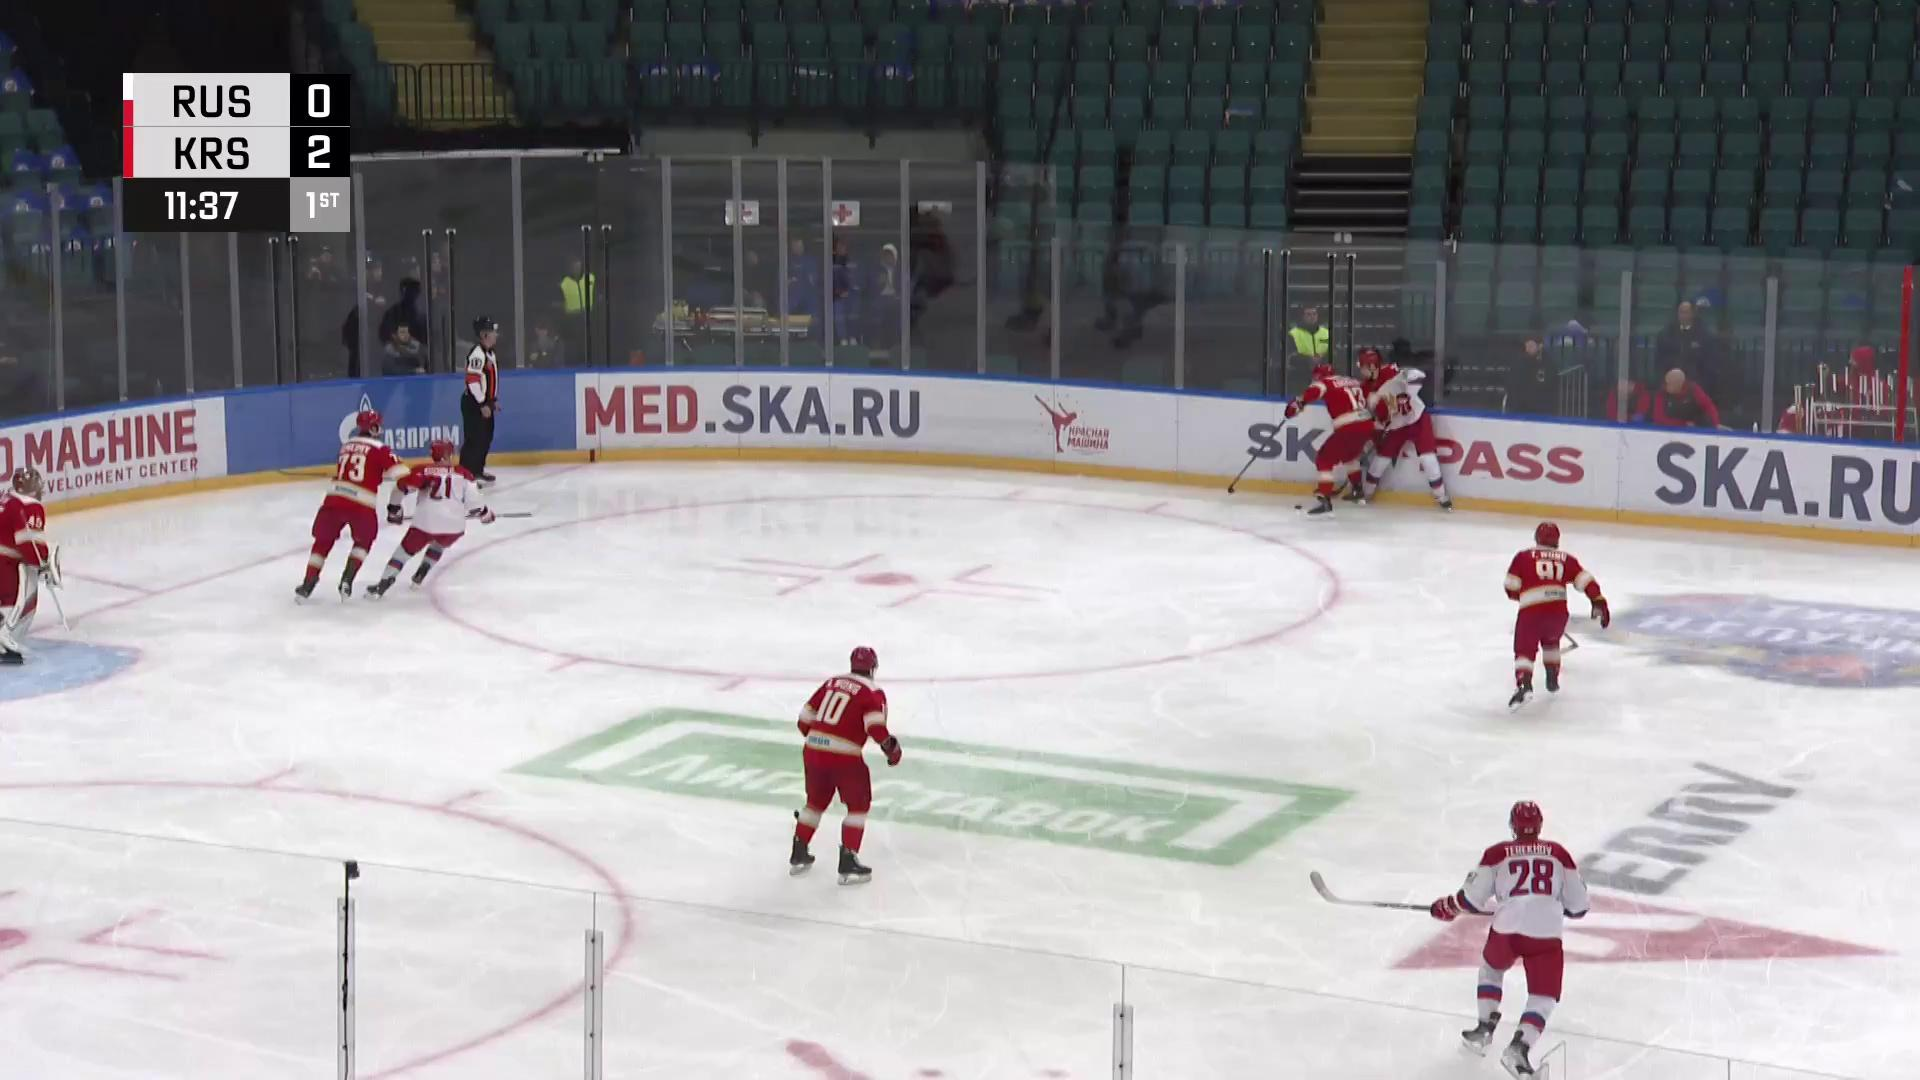ball: (1292, 501, 1307, 513)
